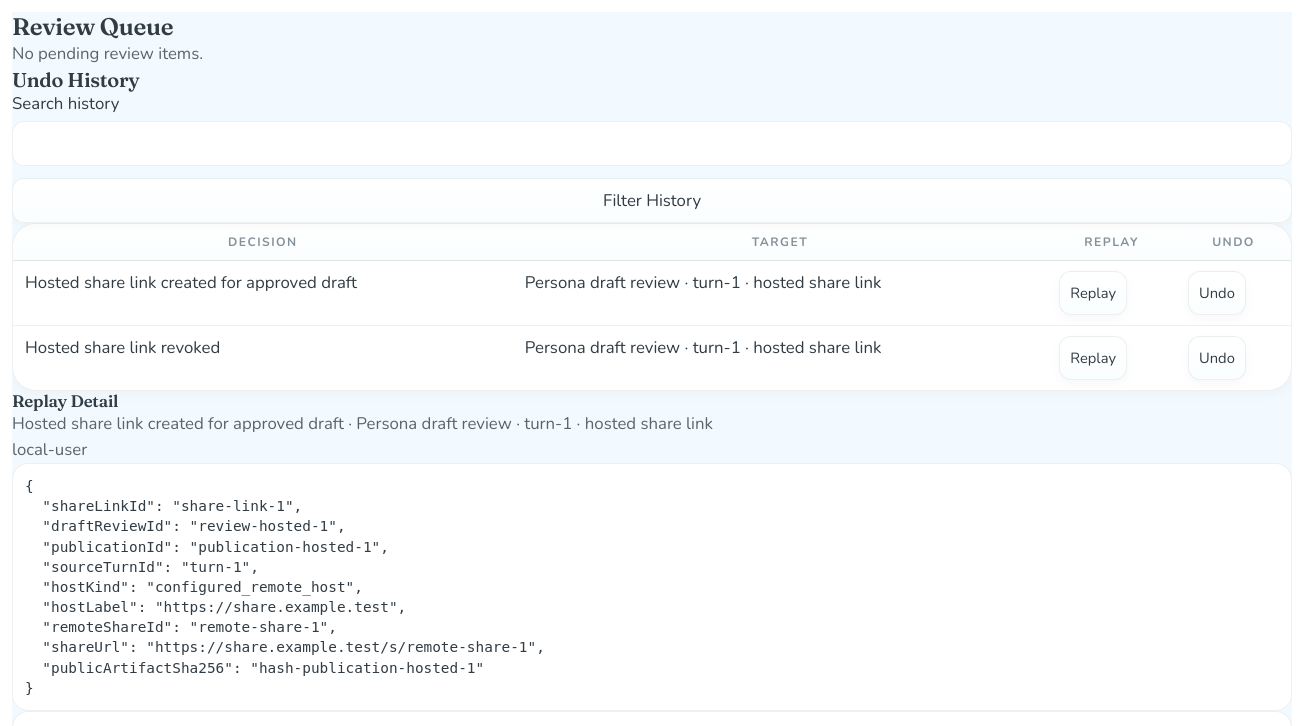
ReviewQueuePage › renders hosted share create and revoke history entries in the undo history list and replay detail
Expected: the text "Hosted share link created for approved draft" is shown, [13, 261, 513, 326]
Expected: the text "Persona draft review · turn-1 · hosted share link" is shown 2 times, [513, 261, 1047, 326]; [513, 326, 1047, 390]
Click the button "Replay" in the row of "Hosted share link revoked": (1093, 358) [1059, 336, 1127, 380]
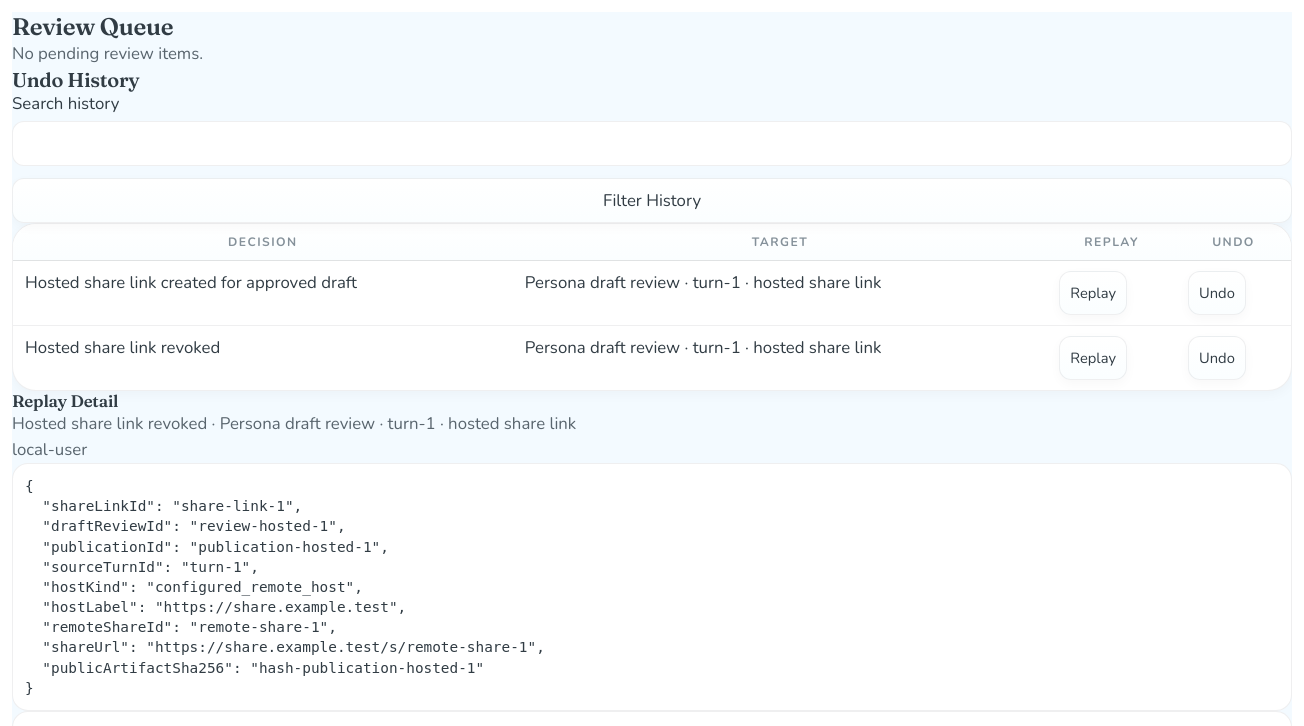
Expected: the heading "Replay Detail" is shown, [12, 391, 118, 411]
Result: the text "Hosted share link revoked · Persona draft review · turn-1 · hosted share link" is shown at [12, 412, 576, 435]
